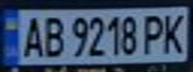1: (106, 12, 124, 56)
2: (87, 14, 106, 57)
8: (118, 12, 142, 56)
9: (66, 12, 90, 59)
A: (18, 12, 48, 59)
B: (39, 12, 69, 59)
K: (157, 10, 190, 55)
P: (139, 11, 169, 55)
